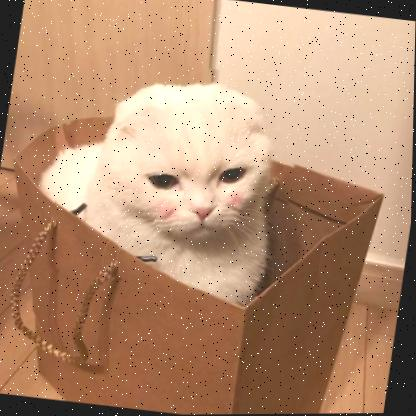cat: (44, 48, 308, 300)
